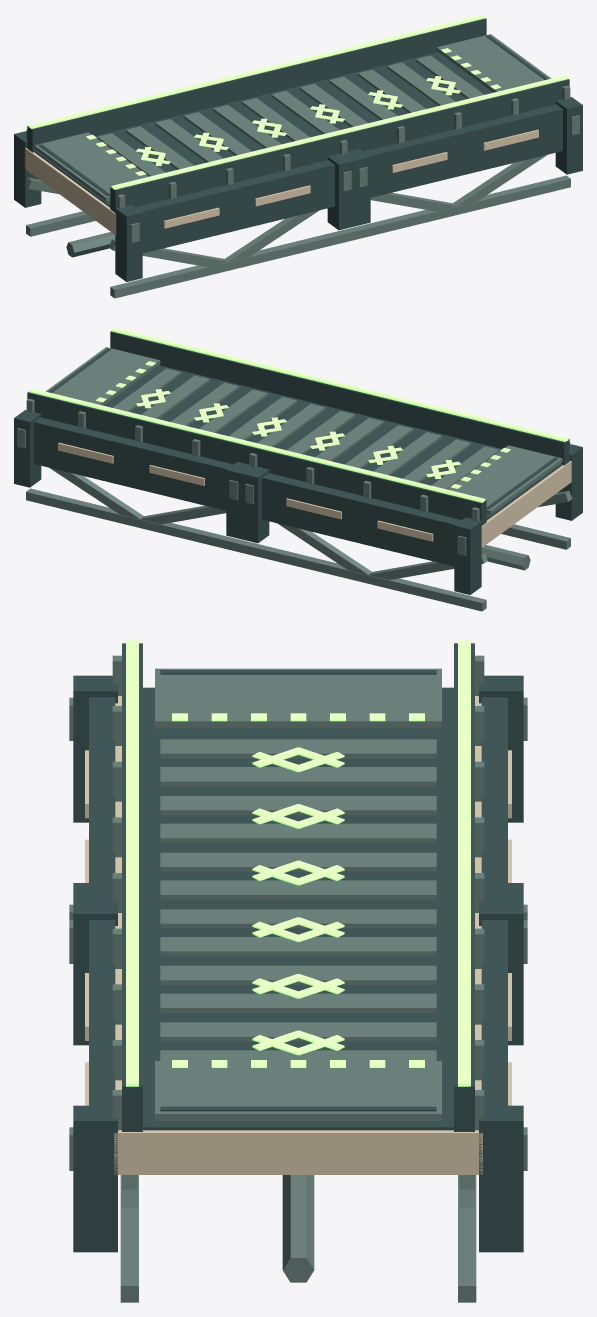
The model's file is Deck_Conveyor_Belt_v4_8_lab2.glb.
3 views of the same model, one above another, from view 1: azimuth 30°, elevation 25°; view 2: azimuth 150°, elevation 25°; view 3: azimuth 270°, elevation 25° (orthographic). The views are drawn at different scales.
Visible parts, largest first — view 1: Deck_Conveyor_Belt_v4_8, Treads, TreadsRev; view 2: Deck_Conveyor_Belt_v4_8, Treads, TreadsRev; view 3: Deck_Conveyor_Belt_v4_8, Treads, TreadsRev.
Boxes of the visible parts, x1=… form: Deck_Conveyor_Belt_v4_8: x1=14, y1=14, x2=582, y2=298; Treads: x1=101, y1=55, x2=484, y2=175; TreadsRev: x1=97, y1=56, x2=481, y2=176; Deck_Conveyor_Belt_v4_8: x1=14, y1=327, x2=582, y2=611; Treads: x1=112, y1=368, x2=494, y2=489; TreadsRev: x1=114, y1=369, x2=499, y2=489; Deck_Conveyor_Belt_v4_8: x1=69, y1=640, x2=527, y2=1302; Treads: x1=160, y1=739, x2=436, y2=1060; TreadsRev: x1=160, y1=739, x2=436, y2=1060.
Size of the model in its own units: 8.05 by 1.83 by 3.48.
